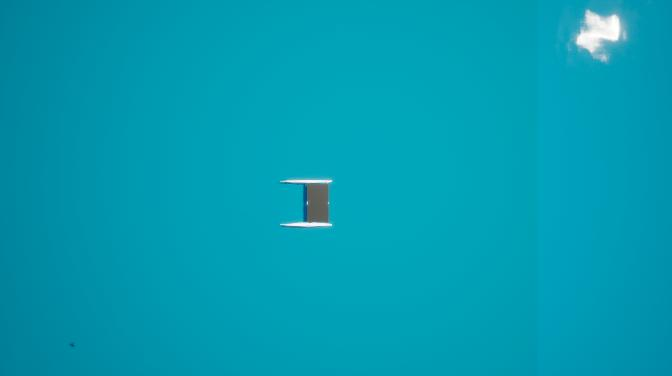boat: (277, 178, 340, 231)
drone: (68, 340, 77, 351)
land_base: (308, 183, 329, 221)
light_reflex: (547, 2, 649, 78)
